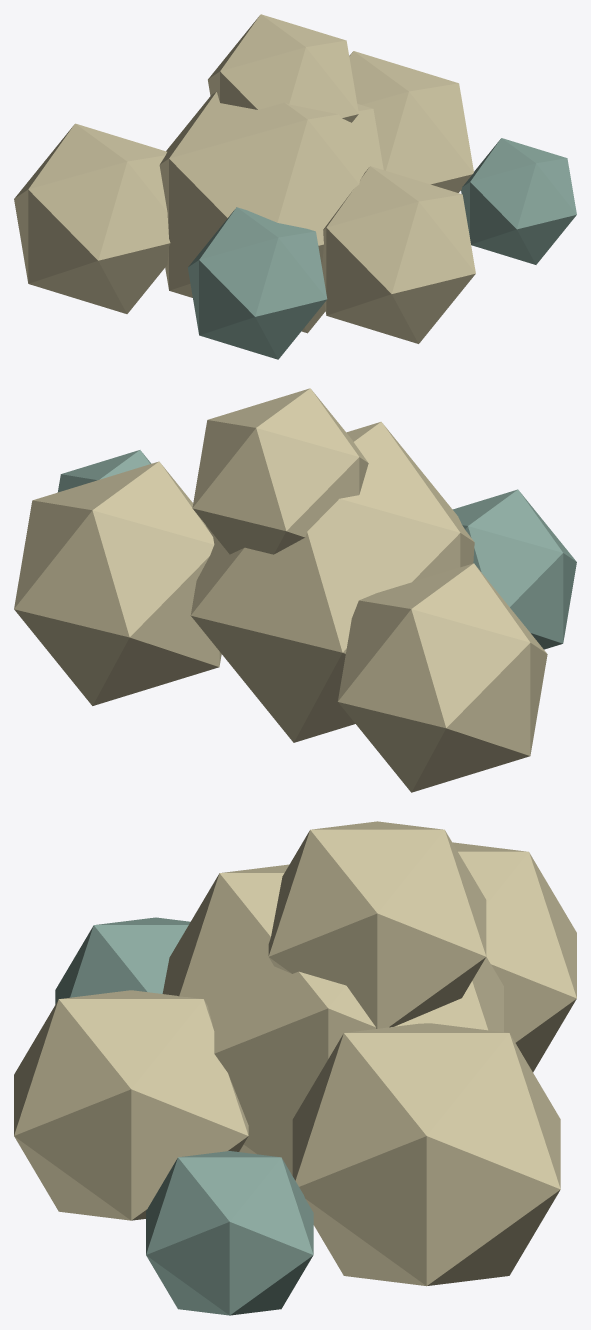
The model's file is foam.glb.
3 views of the same model, one above another, from view 1: azimuth 30°, elevation 25°; view 2: azimuth 150°, elevation 25°; view 3: azimuth 270°, elevation 25° (orthographic). The views are drawn at different scales.
Parts seen in each view (by area): view 1: F0, F2, F3, F4, F1, F6, F5; view 2: F0, F1, F2, F6, F4, F5; view 3: F1, F3, F6, F0, F5, F2, F4.
Boxes of the visible parts, x1=… form: F0: x1=159, y1=92, x2=383, y2=333; F2: x1=14, y1=123, x2=170, y2=313; F3: x1=322, y1=166, x2=475, y2=343; F4: x1=188, y1=207, x2=327, y2=359; F1: x1=349, y1=51, x2=473, y2=192; F6: x1=208, y1=14, x2=358, y2=122; F5: x1=461, y1=138, x2=576, y2=264; F0: x1=190, y1=421, x2=474, y2=742; F1: x1=14, y1=461, x2=221, y2=705; F2: x1=338, y1=563, x2=547, y2=792; F6: x1=192, y1=388, x2=368, y2=554; F4: x1=452, y1=489, x2=576, y2=649; F5: x1=57, y1=450, x2=151, y2=492; F1: x1=292, y1=1023, x2=560, y2=1286; F3: x1=14, y1=990, x2=248, y2=1220; F6: x1=268, y1=821, x2=486, y2=1028; F0: x1=162, y1=864, x2=503, y2=1175; F5: x1=146, y1=1151, x2=313, y2=1315; F2: x1=452, y1=842, x2=576, y2=1072; F4: x1=55, y1=917, x2=190, y2=1004.
Bounding box in the file's own units: 1.63 × 0.8584 × 1.14.
